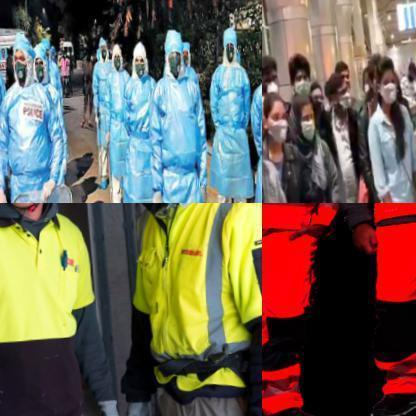vest: (0, 79, 76, 202), (146, 75, 217, 202), (207, 63, 256, 202), (119, 74, 165, 202), (102, 69, 139, 183), (91, 63, 119, 151), (0, 69, 9, 156)
